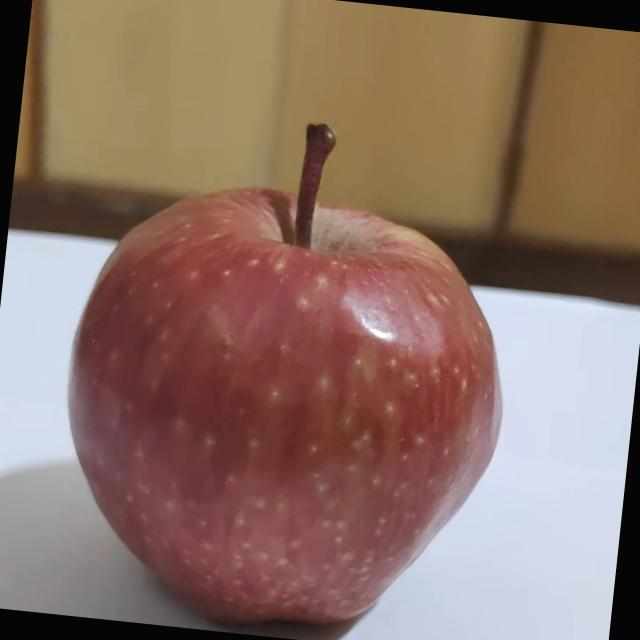apple: (15, 16, 637, 640)
